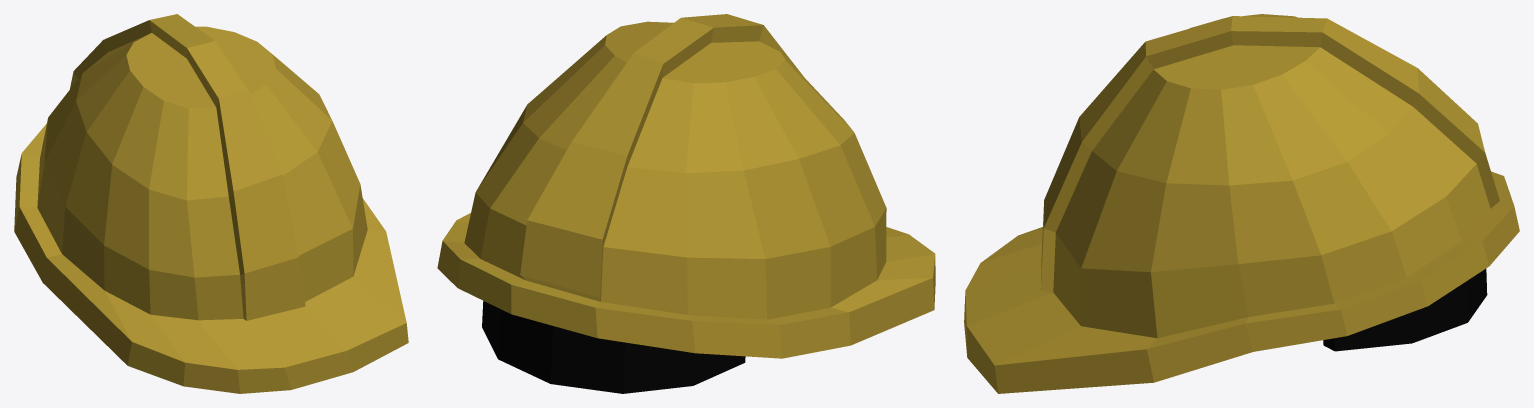
File: Hard Hat.fbx
3 views of the same model, side by side, from view 1: azimuth 30°, elevation 25°; view 2: azimuth 150°, elevation 25°; view 3: azimuth 270°, elevation 25° (orthographic). The views are drawn at different scales.
Visible parts, largest first — view 1: Sphere; view 2: Sphere; view 3: Sphere.
Boxes of the visible parts, x1,y1,x2,y2 form: Sphere: (14, 14, 408, 393); Sphere: (437, 14, 935, 393); Sphere: (964, 14, 1519, 393).
Bounding box in the file's own units: 194 × 161 × 260.
